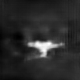plane: (24, 38, 65, 61)
